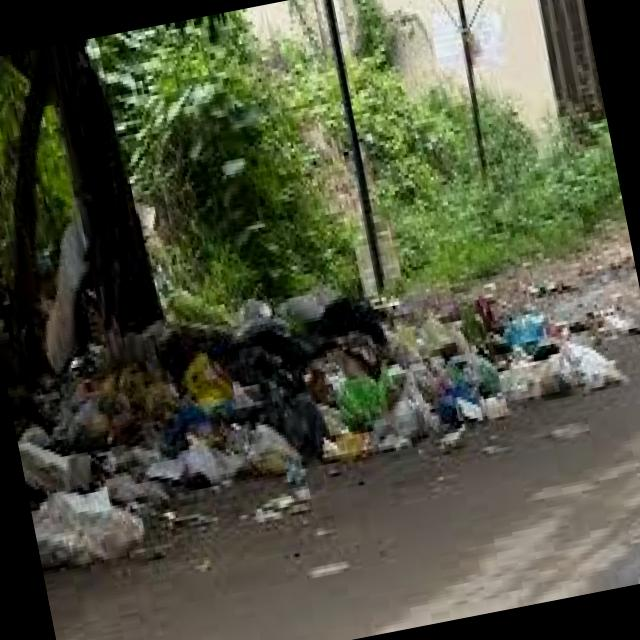garbage: (20, 302, 623, 564)
